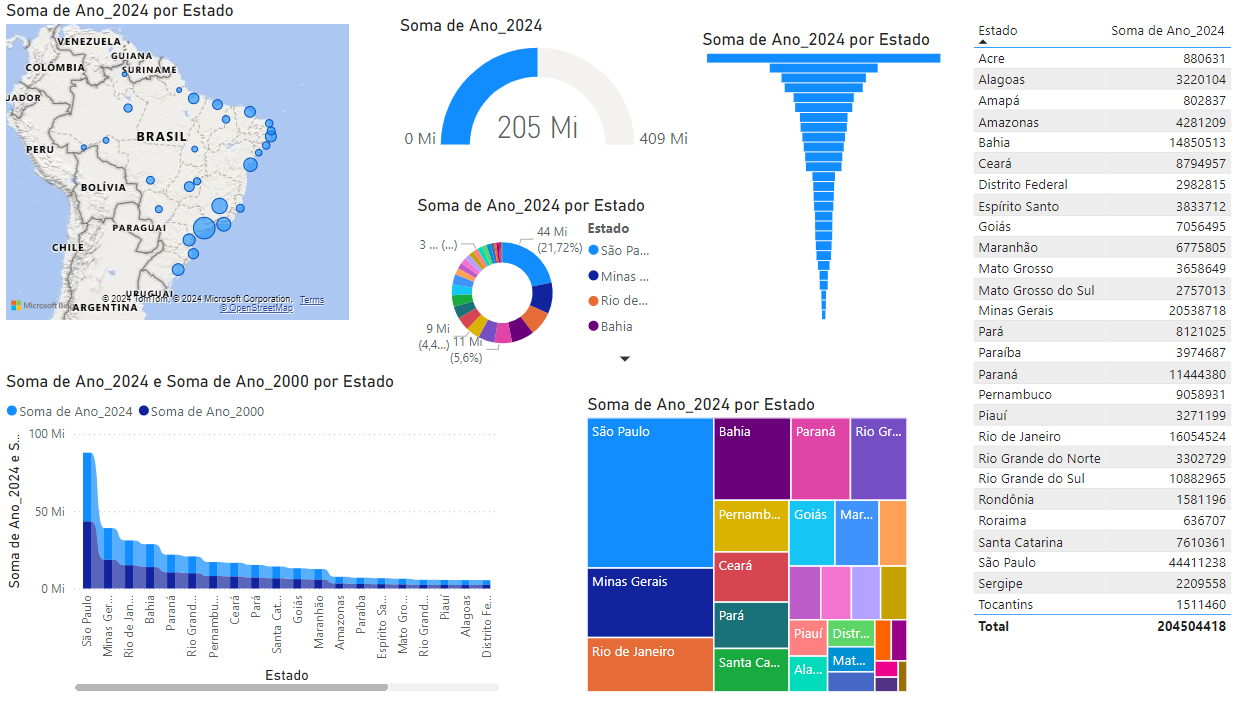

The page's visual inventory and layout, read from the dashboard file:
{"tool":"powerbi","page":{"name":"Página 1","canvas":[1280,720],"ordinal":0},"visuals":[{"type":"map","fields":{"Category":["populacao_estados.Estado"],"Size":["Sum(populacao_estados.Ano_2024)"]},"box":[10,0,353.3,325],"z":0},{"type":"gauge","fields":{"Y":["Sum(populacao_estados.Ano_2024)"]},"box":[403.3,15,303.3,148.3],"z":1000},{"type":"ribbonChart","fields":{"Category":["populacao_estados.Estado"],"Y":["Sum(populacao_estados.Ano_2024)","Sum(populacao_estados.Ano_2000)"]},"box":[10,371.7,503.3,325],"z":2000},{"type":"treemap","fields":{"Group":["populacao_estados.Estado"],"Values":["Sum(populacao_estados.Ano_2024)"]},"box":[591.7,393.3,330,303.3],"z":3000},{"type":"tableEx","fields":{"Values":["populacao_estados.Estado","Sum(populacao_estados.Ano_2024)"]},"box":[976.7,13.3,286.7,646.7],"z":4000},{"type":"funnel","fields":{"Category":["populacao_estados.Estado"],"Y":["Sum(populacao_estados.Ano_2024)"]},"box":[706.7,28.3,253.3,296.7],"z":5000},{"type":"donutChart","fields":{"Category":["populacao_estados.Estado"],"Y":["Sum(populacao_estados.Ano_2024)"]},"box":[421.7,195,253.3,176.7],"z":6000}]}

Visuals, with their boxes in screenshot pixels (x1, y1, x2, y2), scaled from the page's 1280x720 canvas onto the 1239x707 screenshot:
map - populacao_estados.Estado x Sum(populacao_estados.Ano_2024): crop(10, 0, 352, 319)
gauge - Sum(populacao_estados.Ano_2024): crop(390, 15, 684, 160)
ribbonChart - populacao_estados.Estado x Sum(populacao_estados.Ano_2024): crop(10, 365, 497, 684)
treemap - populacao_estados.Estado x Sum(populacao_estados.Ano_2024): crop(573, 386, 892, 684)
tableEx - populacao_estados.Estado x Sum(populacao_estados.Ano_2024): crop(945, 13, 1223, 648)
funnel - populacao_estados.Estado x Sum(populacao_estados.Ano_2024): crop(684, 28, 929, 319)
donutChart - populacao_estados.Estado x Sum(populacao_estados.Ano_2024): crop(408, 191, 653, 365)
